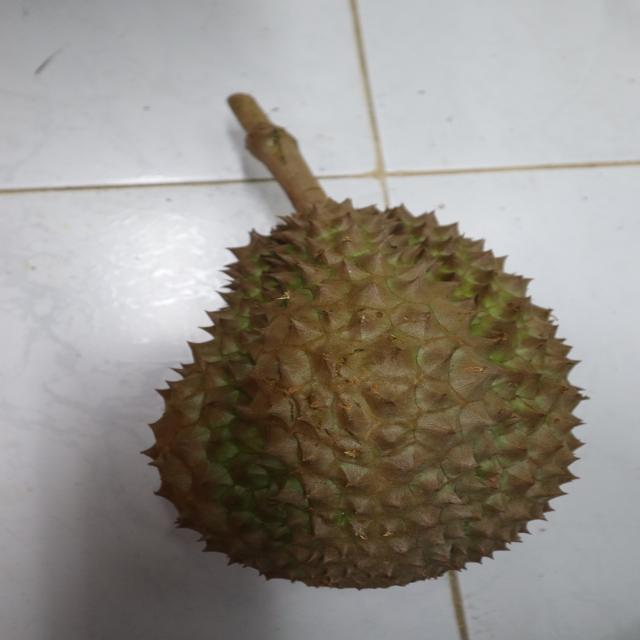mature: (133, 195, 591, 589)
